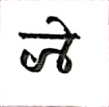e_matra: (46, 16, 79, 34)
